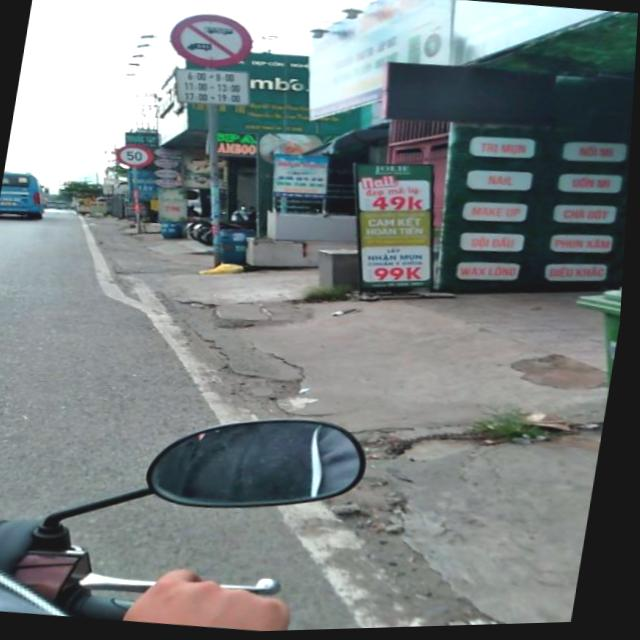Toc do toi da cho phep: (115, 142, 157, 170)
